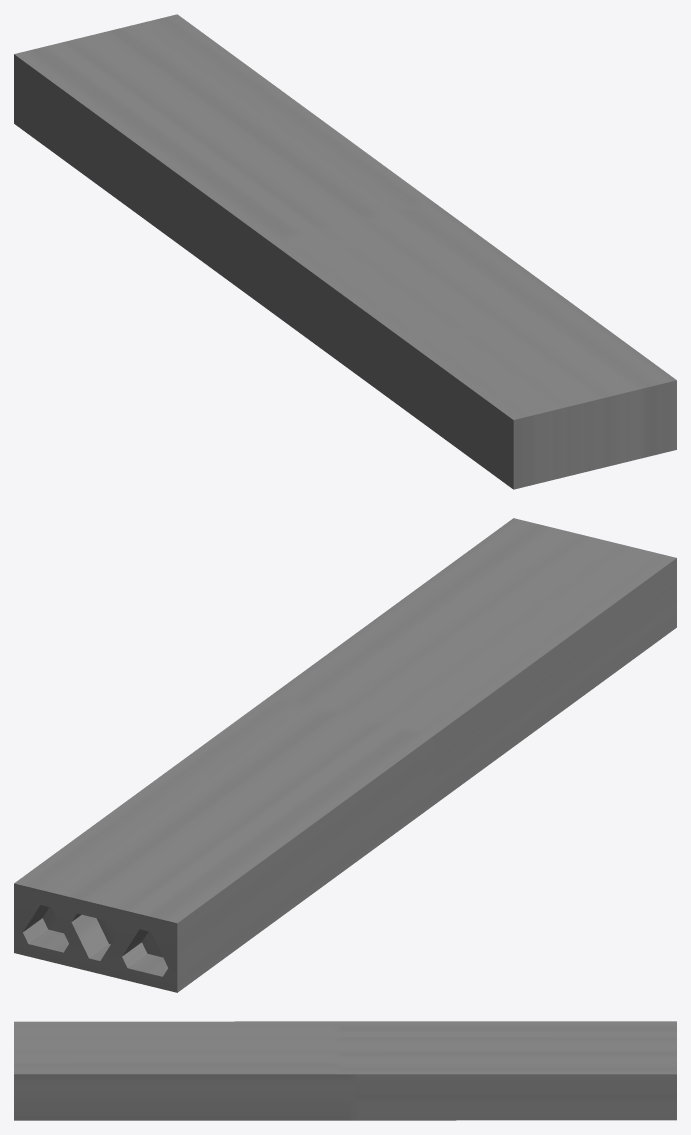
The picture shows the model from 3 angles, top to bottom: view 1: azimuth 30°, elevation 25°; view 2: azimuth 150°, elevation 25°; view 3: azimuth 270°, elevation 25°; orthographic projection. The views are drawn at different scales.
Visible parts, largest first — view 1: 卡方塊__3_; view 2: 卡方塊__3_; view 3: 卡方塊__3_.
Part boxes in pixels (bbox=[...]): 卡方塊__3_: bbox=[14, 14, 676, 489]; 卡方塊__3_: bbox=[14, 518, 676, 992]; 卡方塊__3_: bbox=[14, 1021, 676, 1120].
Size of the model in its own units: 285 by 116 by 1508.
